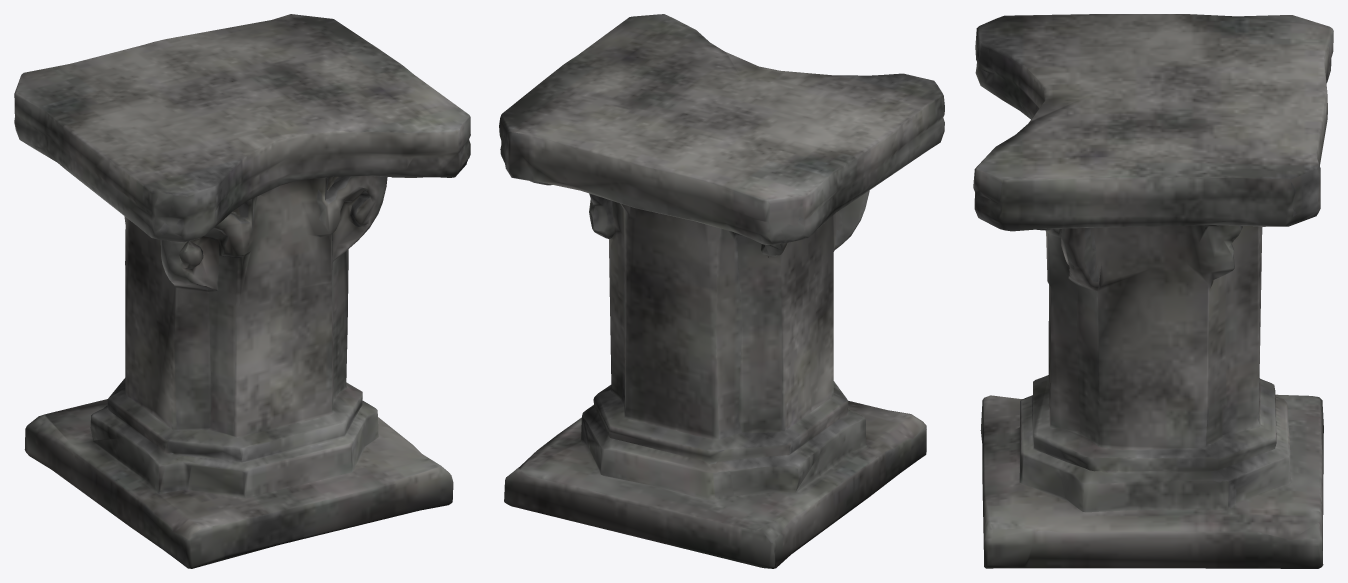
File: ornate-granite-throne-v001.glb
The picture shows the model from 3 angles, left to right: view 1: azimuth 30°, elevation 25°; view 2: azimuth 150°, elevation 25°; view 3: azimuth 270°, elevation 25°; orthographic projection. The views are drawn at different scales.
Visible parts, largest first — view 1: ornate-granite-throne; view 2: ornate-granite-throne; view 3: ornate-granite-throne.
Part boxes in pixels (x1,y1,x2,y2): ornate-granite-throne: [14, 14, 470, 568]; ornate-granite-throne: [499, 14, 944, 568]; ornate-granite-throne: [973, 14, 1333, 568].
Bounding box in the file's own units: 1.55 × 1.77 × 1.41.
1 material, 1 textured.
